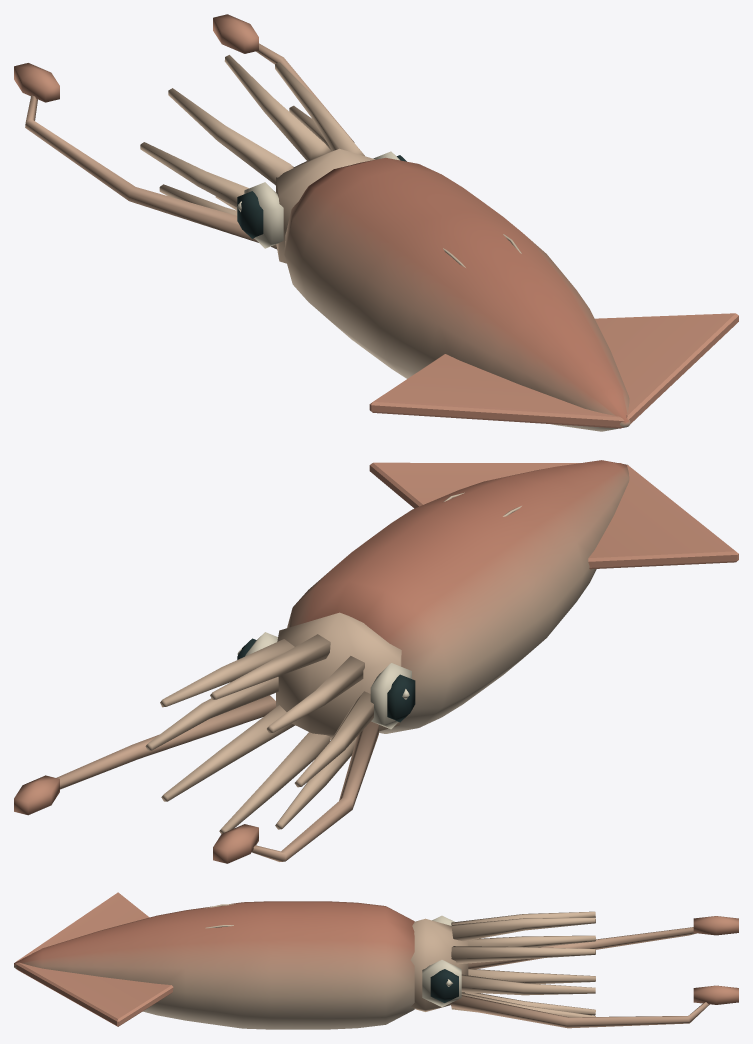
File: fish_squid.glb
3 renders of one model, top to bottom at view 1: azimuth 30°, elevation 25°; view 2: azimuth 150°, elevation 25°; view 3: azimuth 270°, elevation 25°, orthographic. The views are drawn at different scales.
Size of the model in its own units: 0.1468 by 0.0594 by 0.35.
